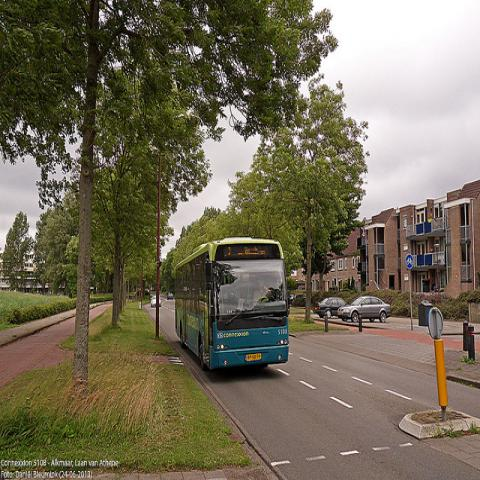bus: (171, 236, 290, 369)
car: (338, 296, 392, 322), (313, 297, 347, 320), (150, 296, 162, 308), (168, 292, 174, 300)
